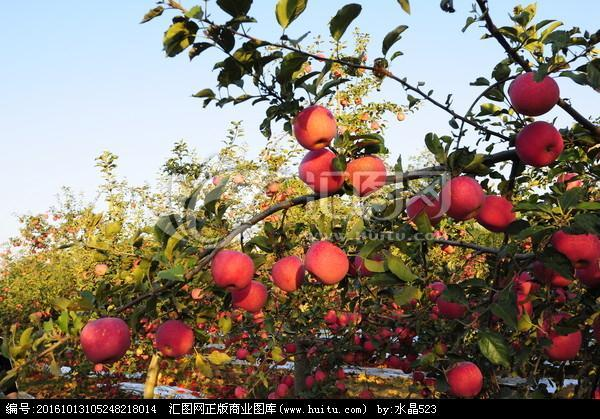apple: (514, 118, 563, 167), (80, 317, 131, 364), (508, 71, 559, 117), (305, 240, 352, 285), (296, 148, 344, 192), (292, 104, 338, 149), (552, 229, 599, 269), (443, 175, 485, 219), (473, 193, 520, 232), (210, 249, 254, 290), (346, 155, 388, 192), (154, 320, 193, 359), (273, 256, 304, 292)
